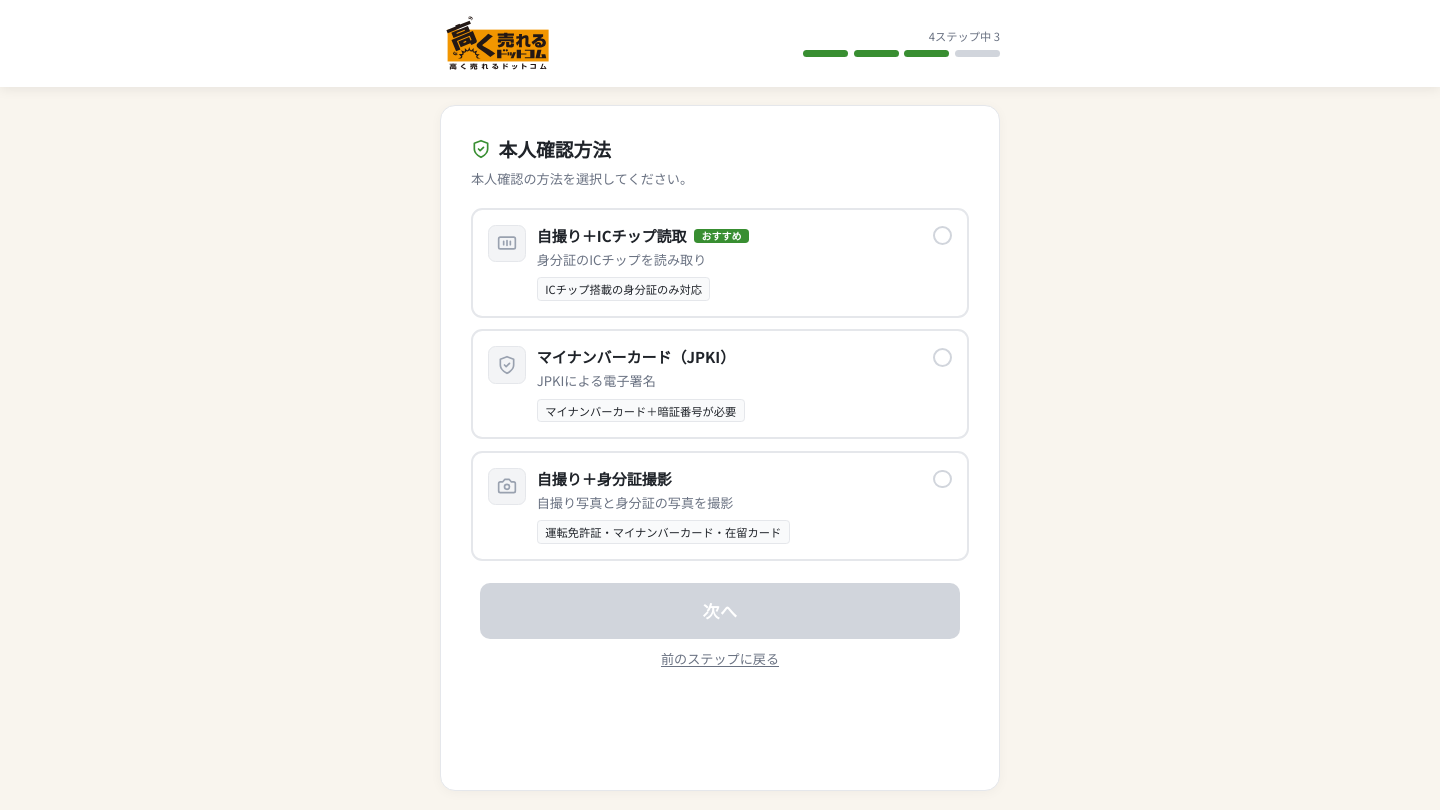
Test: Step3IdentityVerification › selecting a card removes aria-disabled from 次へ and hides hint
The image size is (1440, 810).
What coordinates should you click on to do the following:
click the button "次へ"
I would click on:
 (720, 611)
Its box is left=480, top=583, right=960, bottom=639.
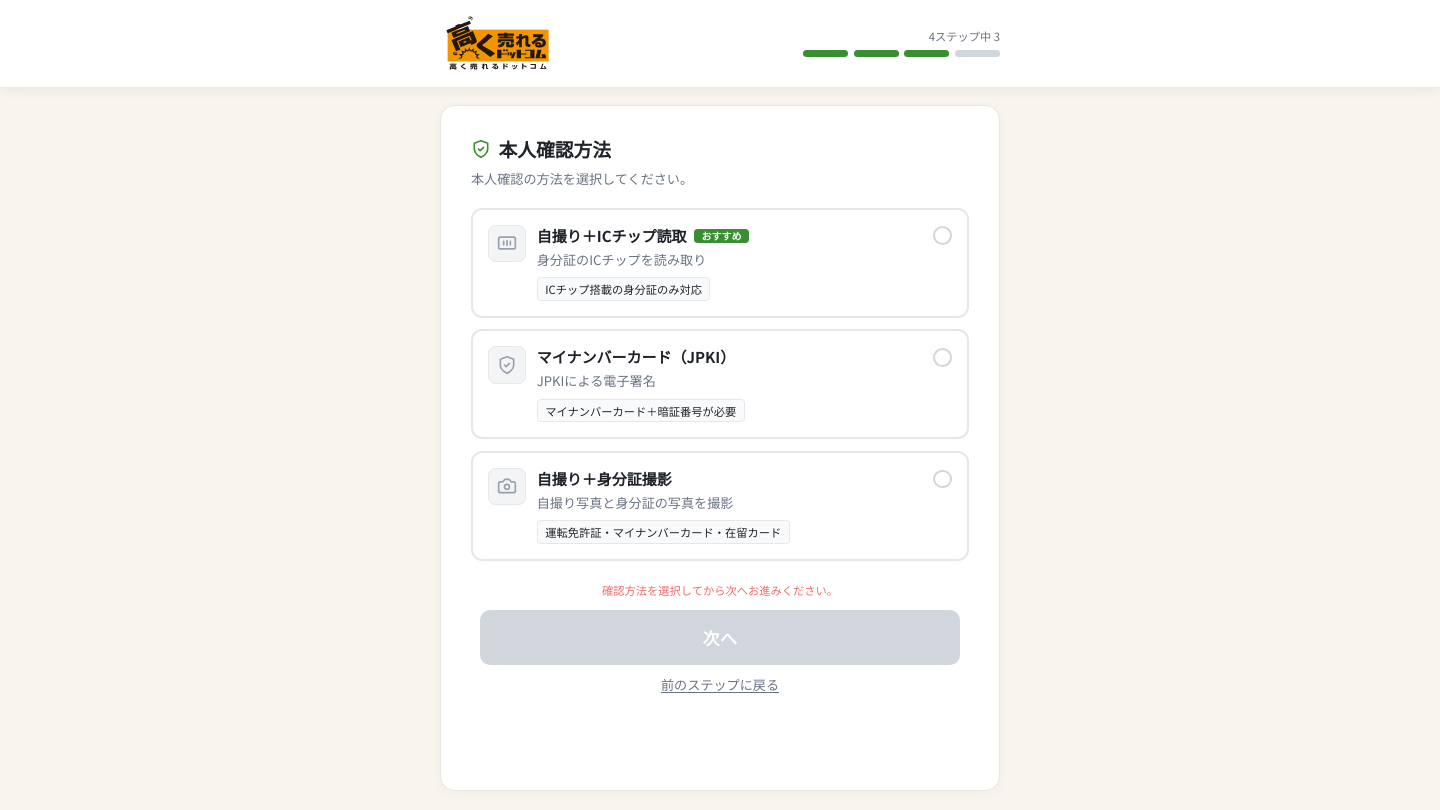
What coordinates should you click on to do the following:
click the text "自撮り＋ICチップ読取"
I would click on:
 (612, 236)
Its box is left=537, top=224, right=687, bottom=247.
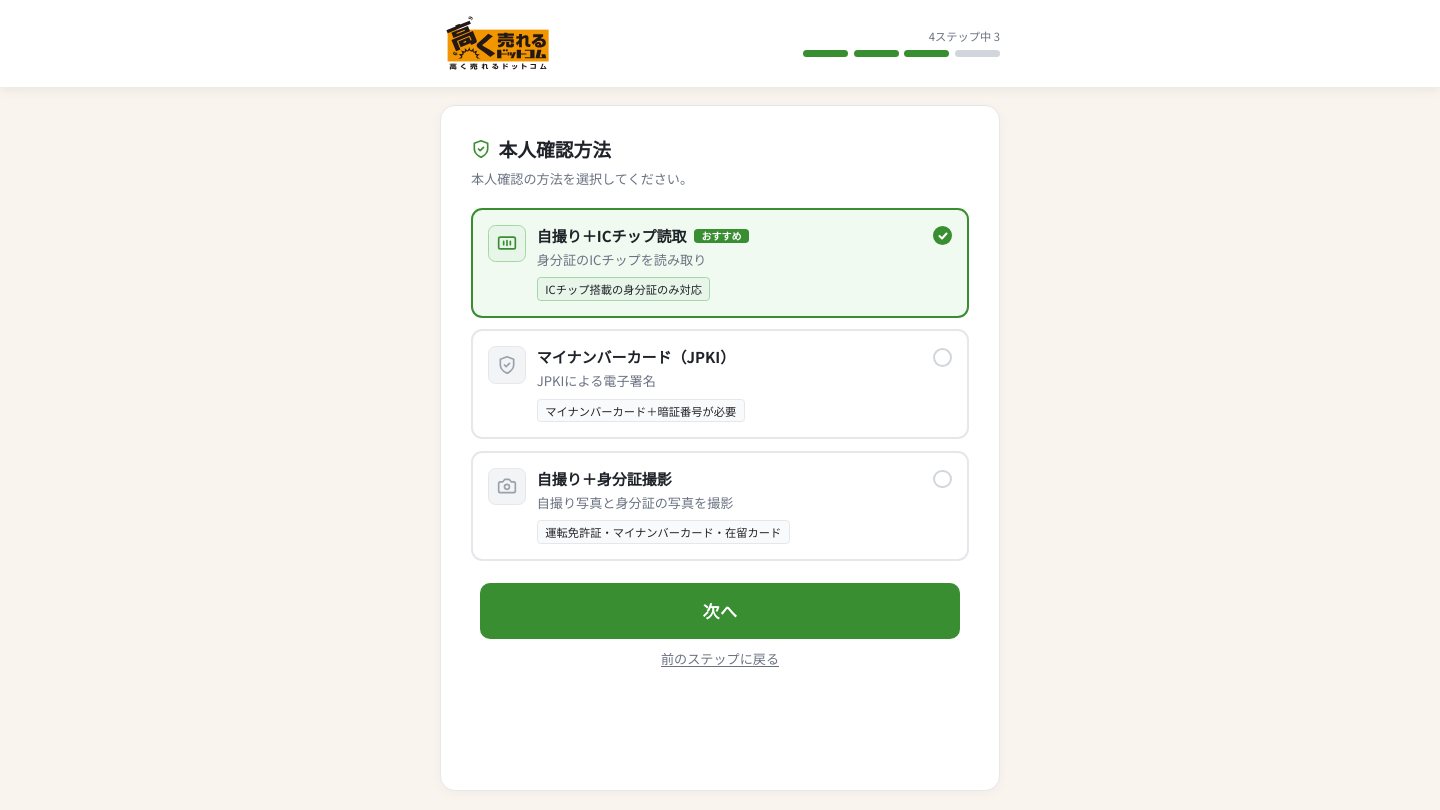
Expected: the text "確認方法を選択してから次へお進みください。" is gone
